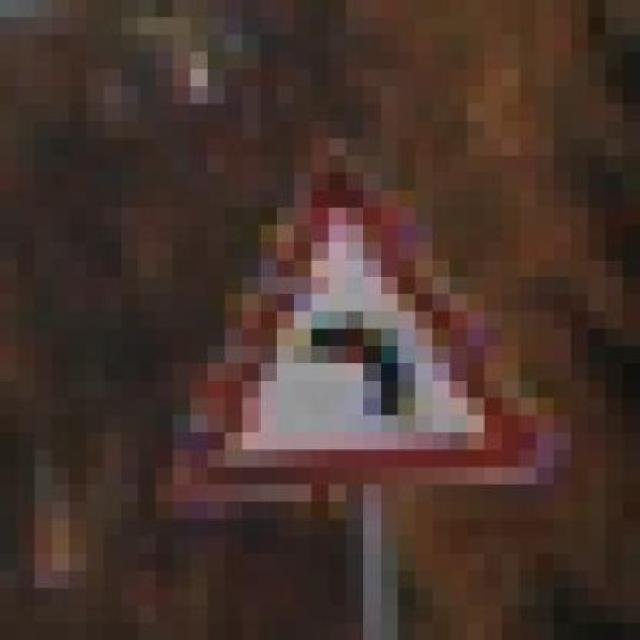Dangerous Left Curve Ahead: (86, 138, 571, 502)
